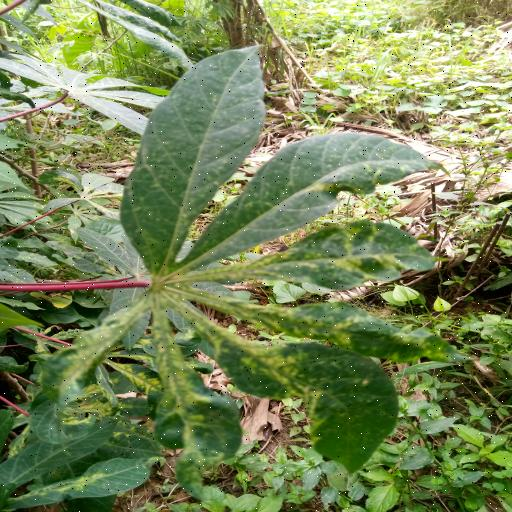Cassava_Mosaic: (20, 42, 437, 504)
